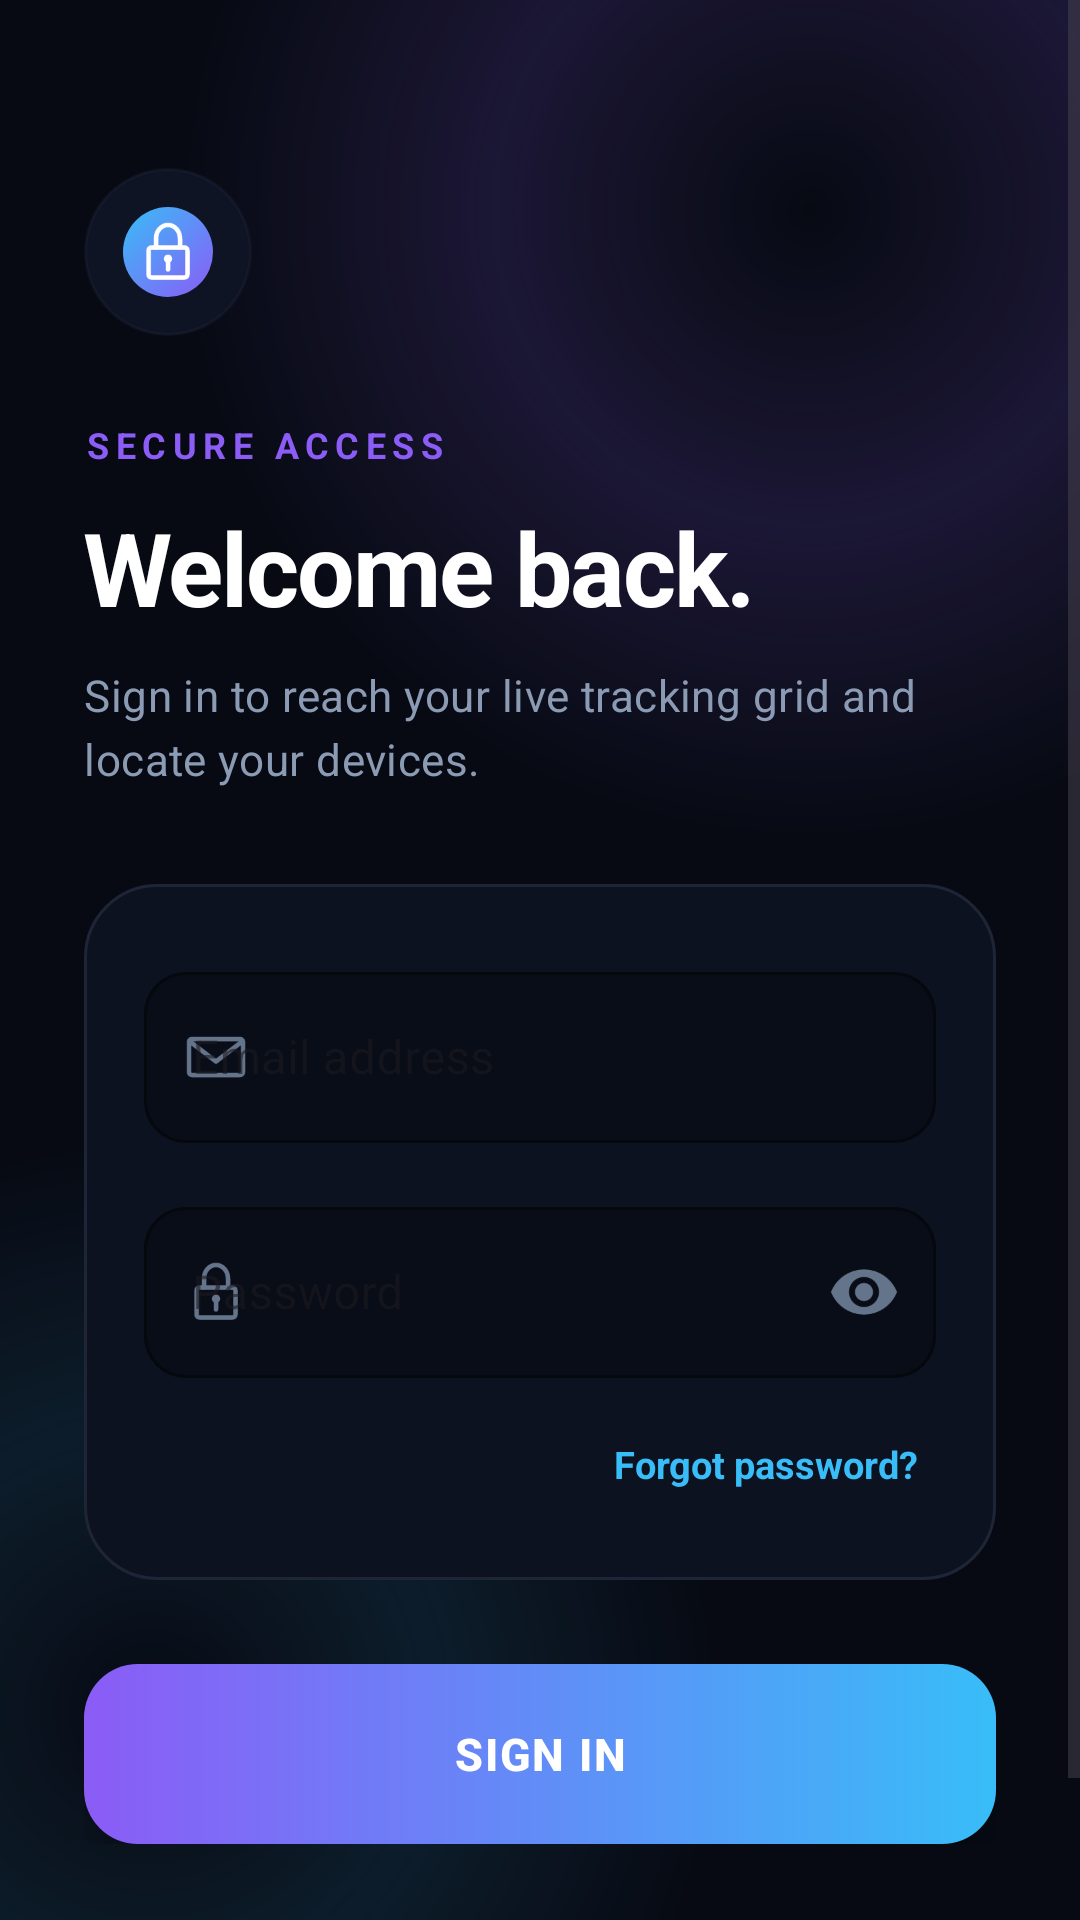

Where to tap for icons on this 1080 x 1920 app screen, as (x=x, y=y):
lock: (x=168, y=252)
